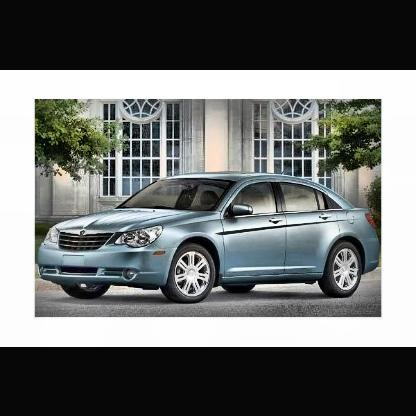Chrysler Sebring Convertible 2010: (39, 174, 383, 307)
